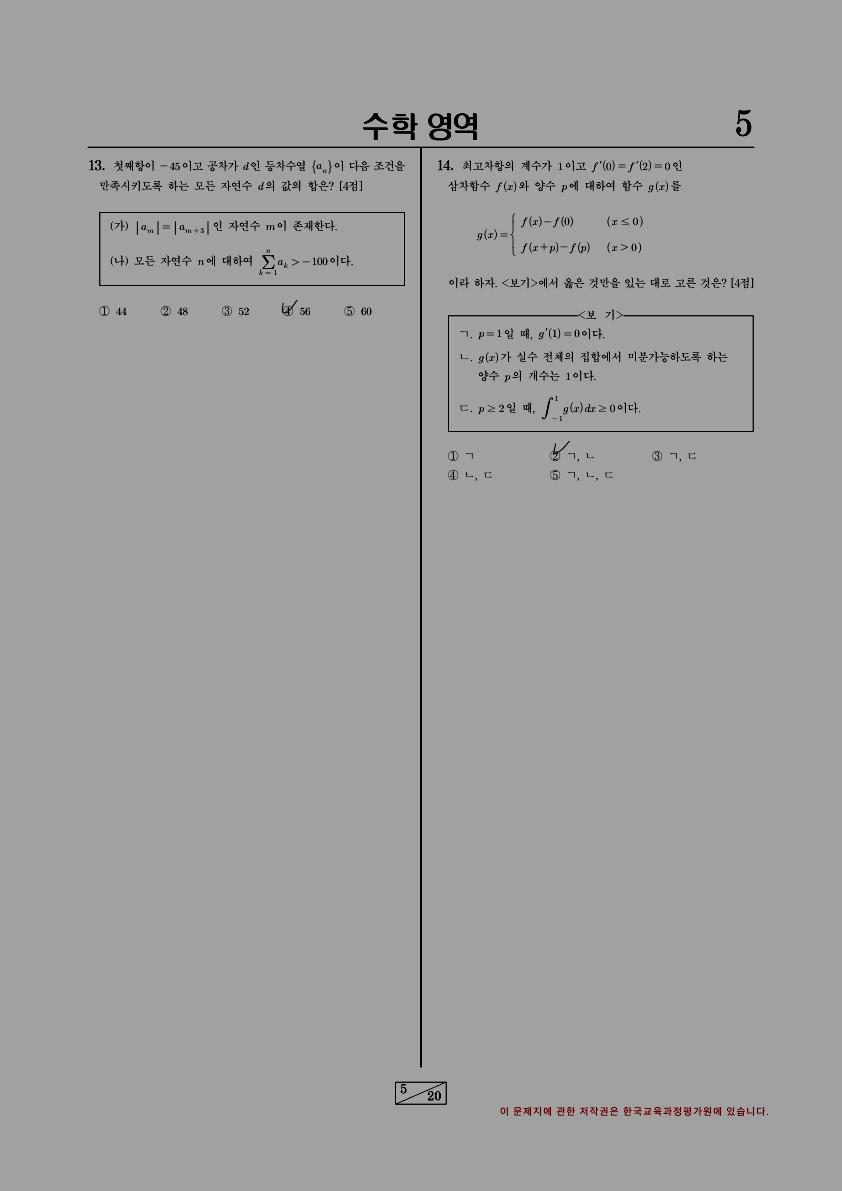question: (422, 149, 773, 501), (73, 149, 417, 332)
